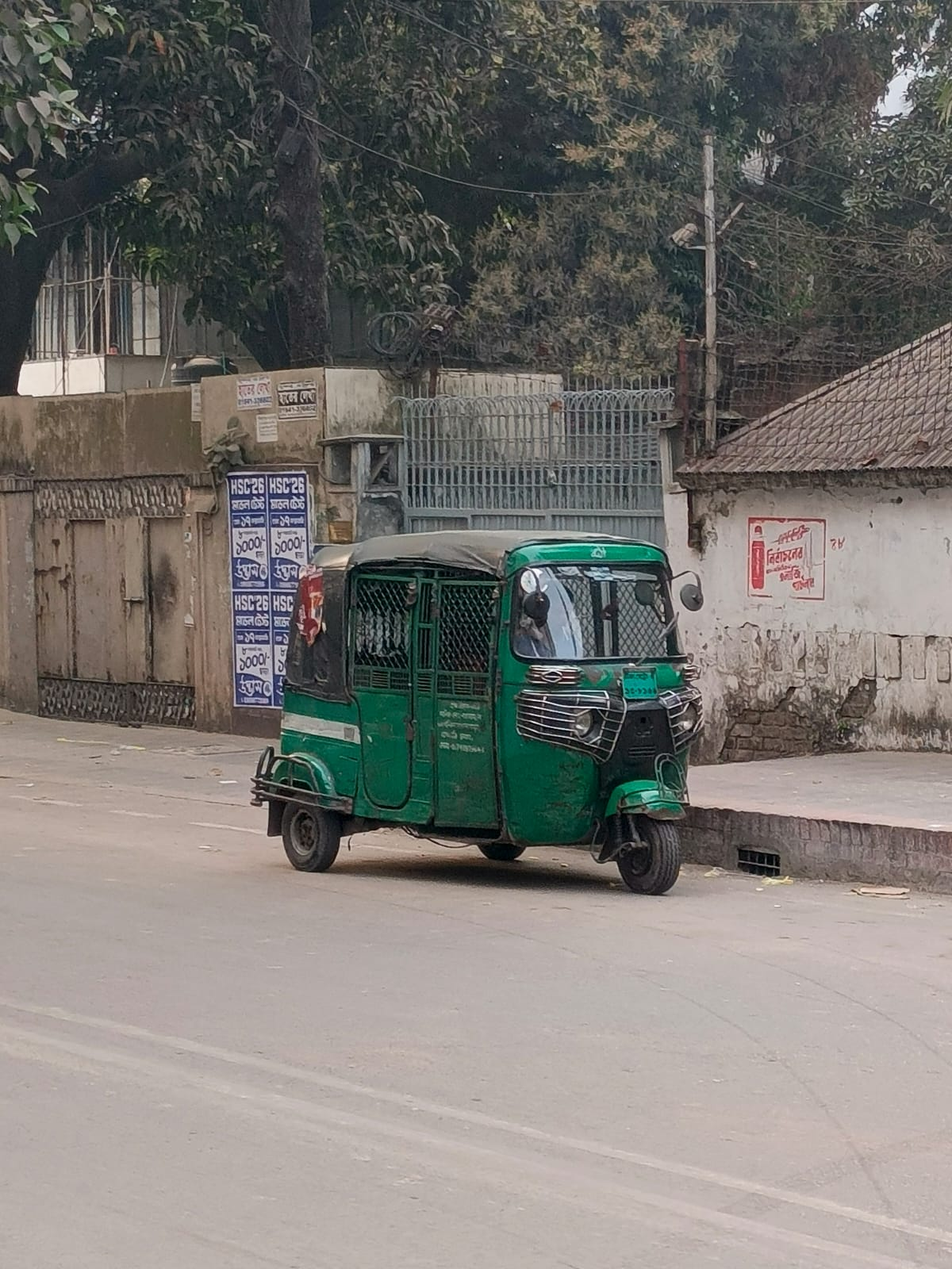cng: (238, 509, 730, 912)
